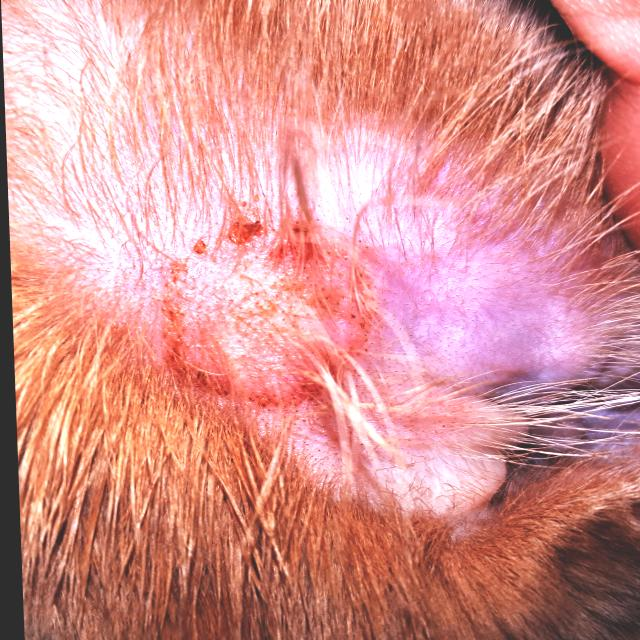ringworm: (157, 202, 373, 409)
